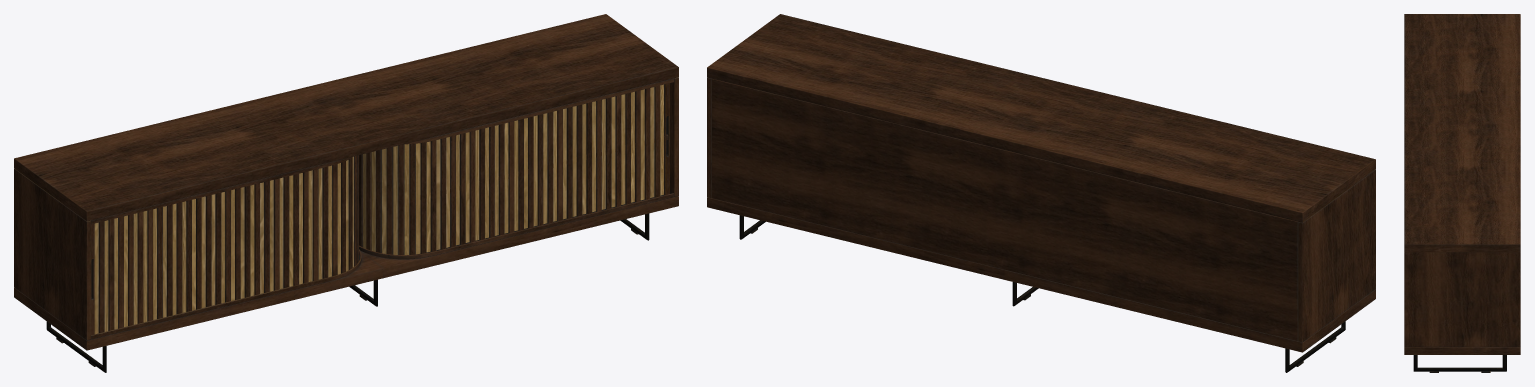
The model's file is tv-bench.glb.
3 renders of one model, left to right at view 1: azimuth 30°, elevation 25°; view 2: azimuth 150°, elevation 25°; view 3: azimuth 270°, elevation 25°, orthographic. The views are drawn at different scales.
Parts seen in each view (by area): view 1: modern_wooden_cabinet_body, modern_wooden_cabinet_door_r, modern_wooden_cabinet_door_l; view 2: modern_wooden_cabinet_body; view 3: modern_wooden_cabinet_body.
Part boxes in pixels (x1=…): modern_wooden_cabinet_body: x1=14, y1=14, x2=678, y2=372; modern_wooden_cabinet_door_r: x1=359, y1=83, x2=669, y2=254; modern_wooden_cabinet_door_l: x1=91, y1=155, x2=358, y2=334; modern_wooden_cabinet_body: x1=707, y1=14, x2=1375, y2=372; modern_wooden_cabinet_body: x1=1404, y1=14, x2=1520, y2=372.
Bounding box in the file's own units: 2.44 × 0.6802 × 0.5199.
1 material, 1 textured.
